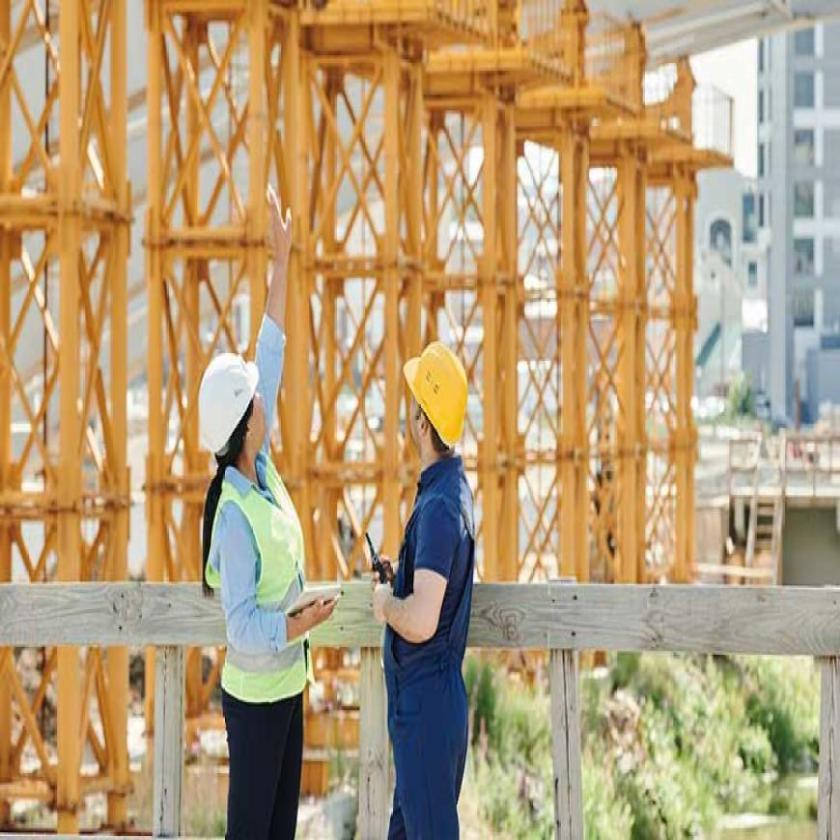Con_casco: (196, 347, 269, 492), (398, 339, 472, 471)
